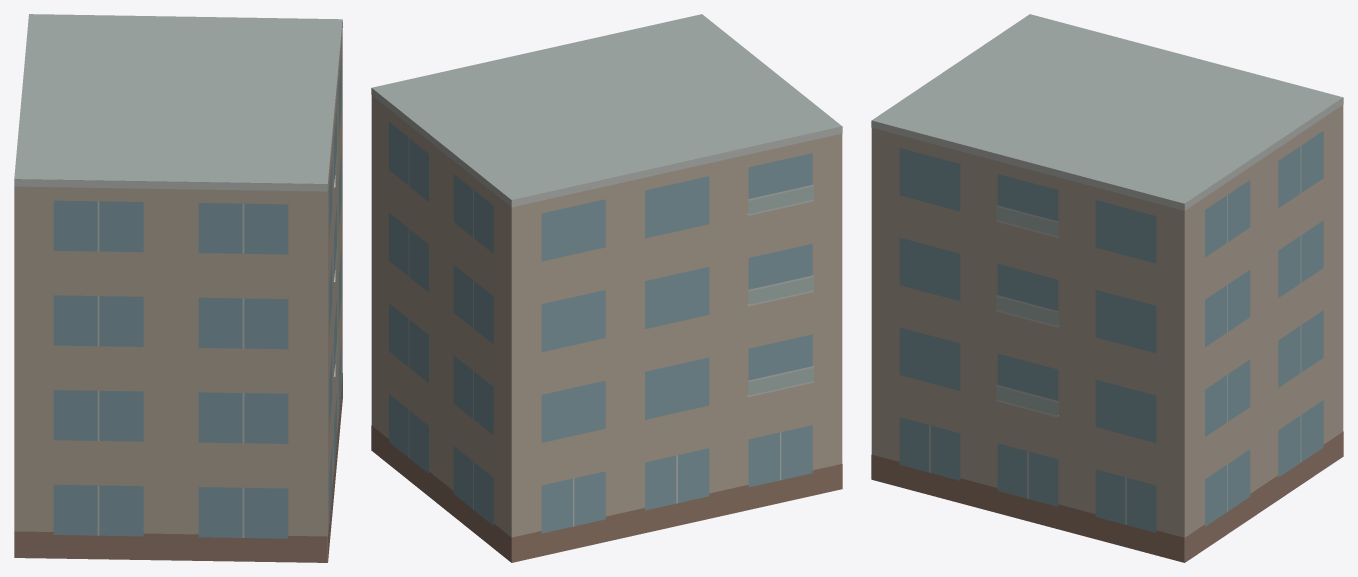
The model's file is residential-8b8ccbb1-9695-453d-ba66-f54ecdb1d2e0.glb.
3 views of the same model, side by side, from view 1: azimuth 30°, elevation 25°; view 2: azimuth 150°, elevation 25°; view 3: azimuth 270°, elevation 25° (orthographic). The views are drawn at different scales.
Parts seen in each view (by area): view 1: residential-8b8ccbb1-9695-453d-ba66-f54ecdb1d2e0.tmp; view 2: residential-8b8ccbb1-9695-453d-ba66-f54ecdb1d2e0.tmp; view 3: residential-8b8ccbb1-9695-453d-ba66-f54ecdb1d2e0.tmp.
Part boxes in pixels (left/top/right/bottom): residential-8b8ccbb1-9695-453d-ba66-f54ecdb1d2e0.tmp: left=14, top=14, right=342, bottom=562; residential-8b8ccbb1-9695-453d-ba66-f54ecdb1d2e0.tmp: left=371, top=14, right=842, bottom=562; residential-8b8ccbb1-9695-453d-ba66-f54ecdb1d2e0.tmp: left=871, top=14, right=1343, bottom=562.
Bounding box in the file's own units: 13.83 × 12.2 × 14.54.
